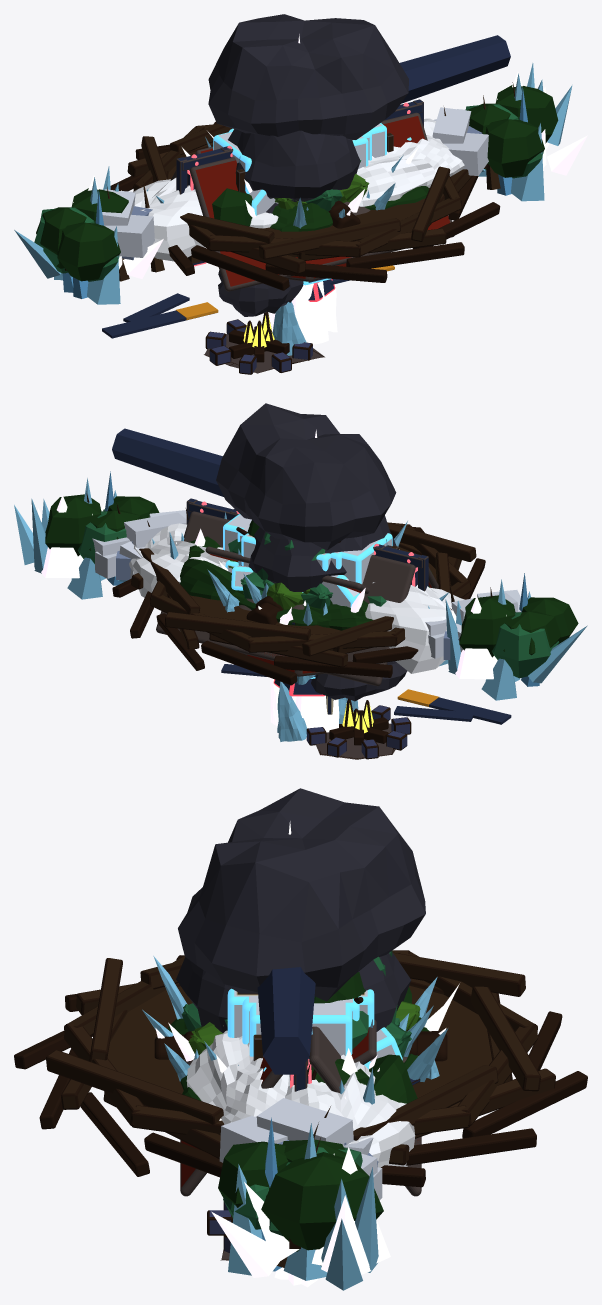
File: sky_citadel_scatter_props.fbx
3 renders of one model, top to bottom at view 1: azimuth 30°, elevation 25°; view 2: azimuth 150°, elevation 25°; view 3: azimuth 270°, elevation 25°, orthographic. The views are drawn at different scales.
Visible parts, largest first — view 1: sct_bonfire_a, sct_nest_b, scn_prop_blocker_reclaimed, sct_snow_drift_e, scn_prop_blocker_stormhawk, sct_nest_a, sct_raider_tent_b, scn_prop_blocker_unmooring, scn_prop_blocker_rime, scn_prop_blocker_aether_surge, sct_aether_cluster_c, sct_moss_mound_c (+4 smaller); view 2: sct_bonfire_a, sct_nest_b, scn_prop_blocker_reclaimed, scn_prop_blocker_stormhawk, sct_snow_drift_e, scn_prop_blocker_aether_surge, sct_nest_a, sct_raider_tent_b, scn_prop_blocker_unmooring, scn_prop_blocker_rime, sct_aether_cluster_c, sct_moss_mound_e (+9 smaller); view 3: sct_bonfire_a, sct_nest_b, sct_nest_a, scn_prop_blocker_reclaimed, sct_snow_drift_e, scn_prop_blocker_aether_surge, scn_prop_blocker_stormhawk, scn_prop_blocker_unmooring, sct_raider_tent_b, scn_prop_blocker_rime, sct_aether_geode_b, sct_fragment_b (+8 smaller).
Part boxes in pixels (x1,y1,x2,y2): sct_bonfire_a: [204, 14, 408, 374]; sct_nest_b: [102, 121, 500, 288]; scn_prop_blocker_reclaimed: [34, 85, 558, 281]; sct_snow_drift_e: [133, 118, 464, 261]; scn_prop_blocker_stormhawk: [102, 35, 510, 338]; sct_nest_a: [127, 141, 499, 290]; sct_raider_tent_b: [170, 99, 454, 291]; scn_prop_blocker_unmooring: [102, 107, 488, 260]; scn_prop_blocker_rime: [54, 73, 544, 304]; scn_prop_blocker_aether_surge: [14, 63, 587, 278]; sct_aether_cluster_c: [269, 34, 337, 355]; sct_moss_mound_c: [270, 186, 428, 231]; sct_bonfire_a: [216, 403, 411, 759]; sct_nest_b: [112, 522, 485, 683]; scn_prop_blocker_reclaimed: [45, 494, 578, 678]; scn_prop_blocker_stormhawk: [112, 428, 511, 724]; sct_snow_drift_e: [129, 523, 464, 673]; scn_prop_blocker_aether_surge: [14, 495, 587, 683]; sct_nest_a: [112, 531, 485, 685]; sct_raider_tent_b: [156, 498, 438, 686]; scn_prop_blocker_unmooring: [92, 510, 521, 659]; scn_prop_blocker_rime: [67, 471, 539, 700]; sct_aether_cluster_c: [270, 429, 358, 741]; sct_moss_mound_e: [180, 559, 372, 630]; sct_bonfire_a: [176, 788, 425, 1260]; sct_nest_b: [14, 950, 587, 1182]; sct_nest_a: [14, 964, 587, 1187]; scn_prop_blocker_reclaimed: [218, 1059, 383, 1251]; sct_snow_drift_e: [186, 1030, 415, 1167]; scn_prop_blocker_aether_surge: [211, 1048, 390, 1290]; scn_prop_blocker_stormhawk: [257, 967, 315, 1074]; scn_prop_blocker_unmooring: [219, 1098, 382, 1200]; sct_raider_tent_b: [180, 1026, 421, 1196]; scn_prop_blocker_rime: [228, 1029, 327, 1280]; sct_aether_geode_b: [153, 956, 448, 1081]; sct_fragment_b: [249, 995, 352, 1056].
Bounding box in the file's own units: 32.44 × 16.73 × 19.61.
